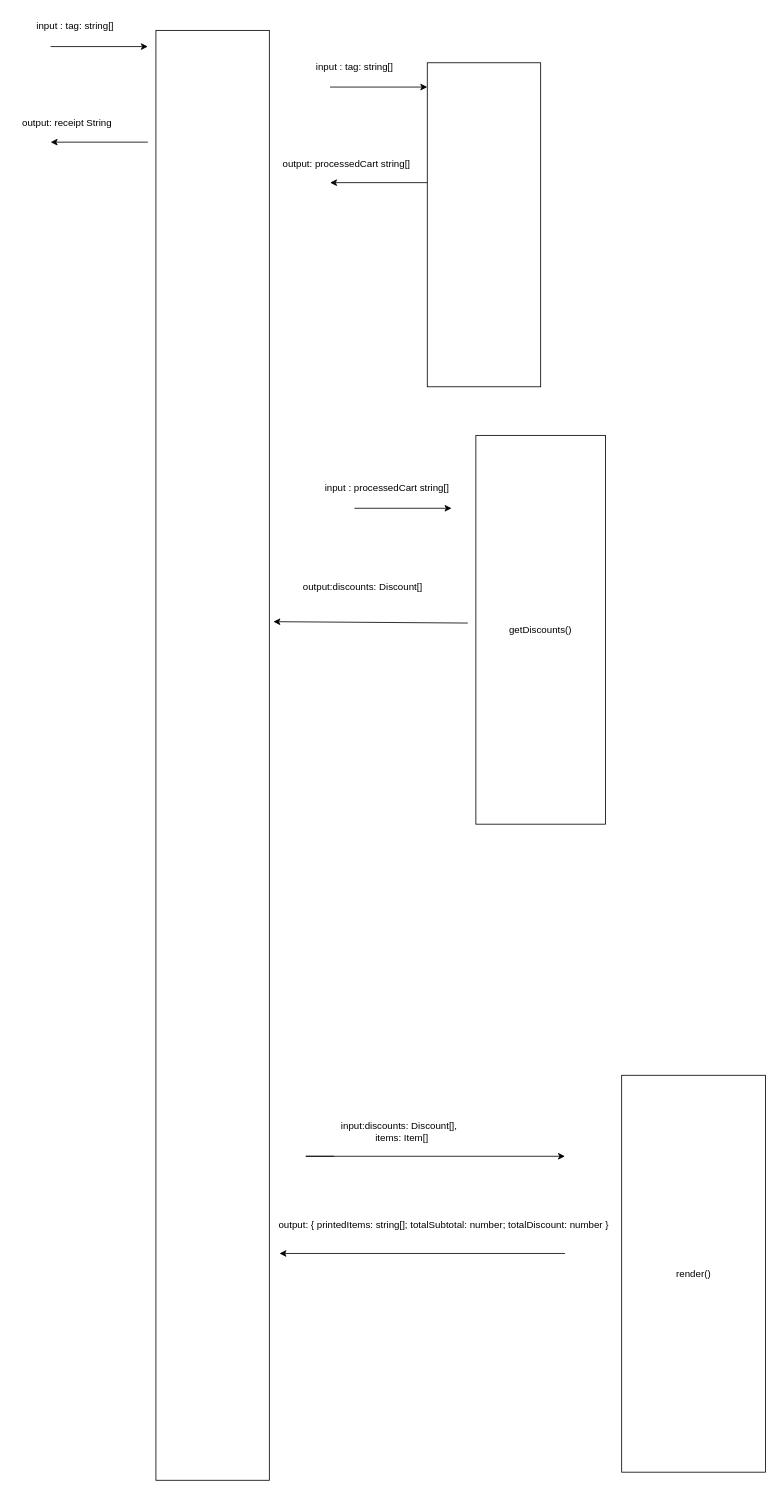
Image size: 779x1494. Some labels were removed from this diagram. The shapes that lost their labels are listed below. From the top down, each one's centre as x and y in pixels, then its label:
At point (483, 224): "getProcessedCart()".
At point (212, 755): "printReceipt()".
